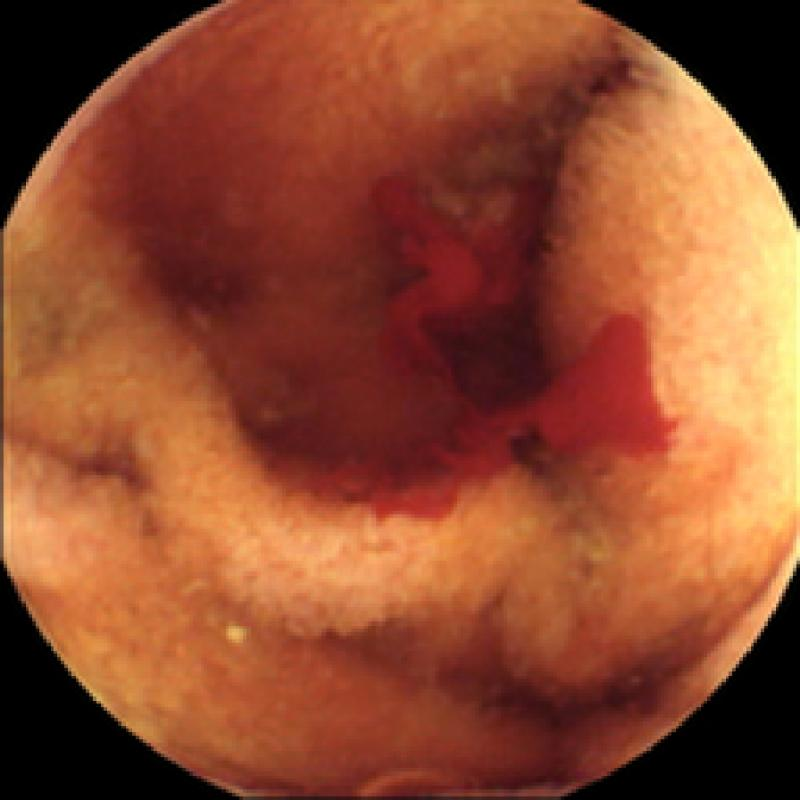bleeding: (278, 203, 646, 518)
